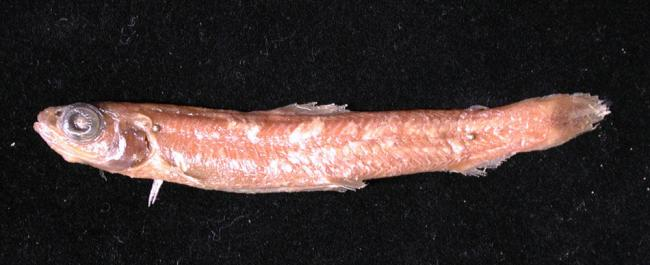fish: (36, 97, 611, 204)
